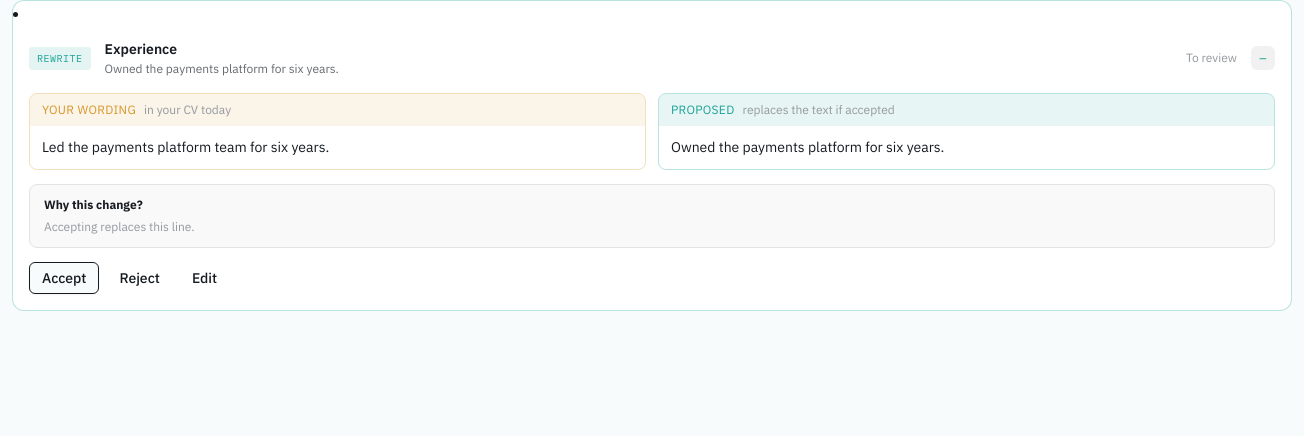
it: deciding one proposal › will not save an empty edit
Step 1. Click the button "Edit" → [205, 278], box [180, 262, 229, 294]
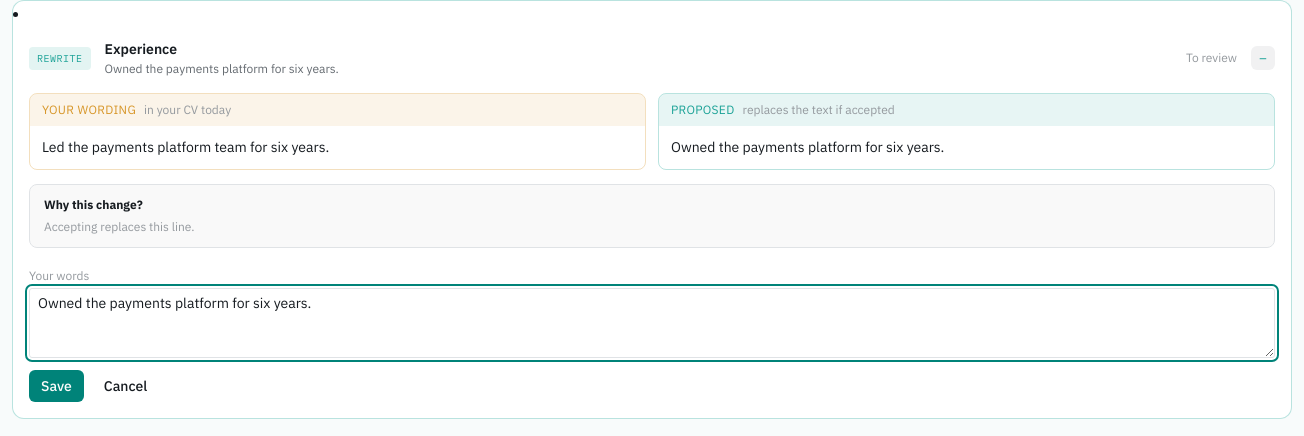
Step 2. Clear the text box named "edit experience" → [652, 323], box [29, 288, 1275, 358]
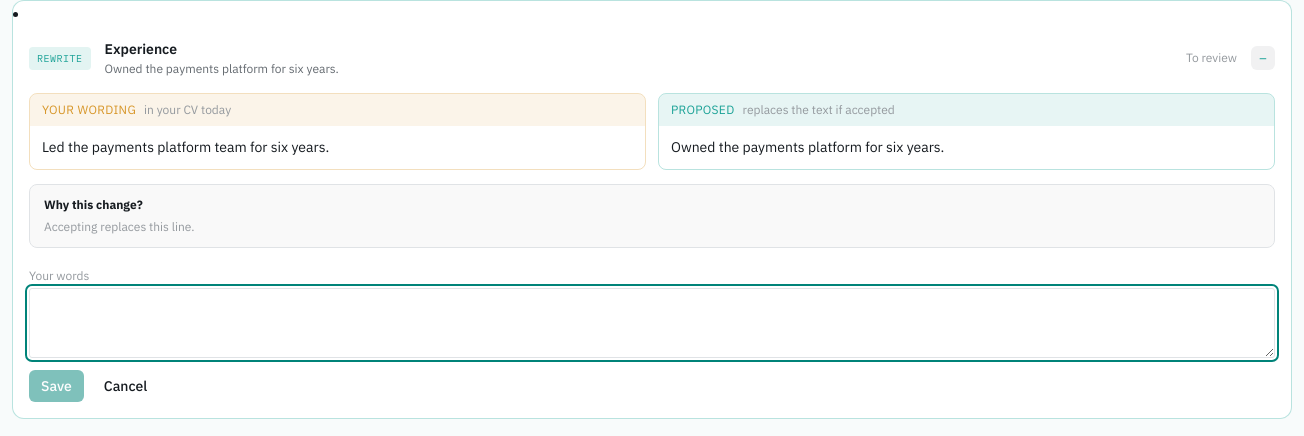
expect the button "Save" is disabled: met, box [29, 370, 84, 402]
